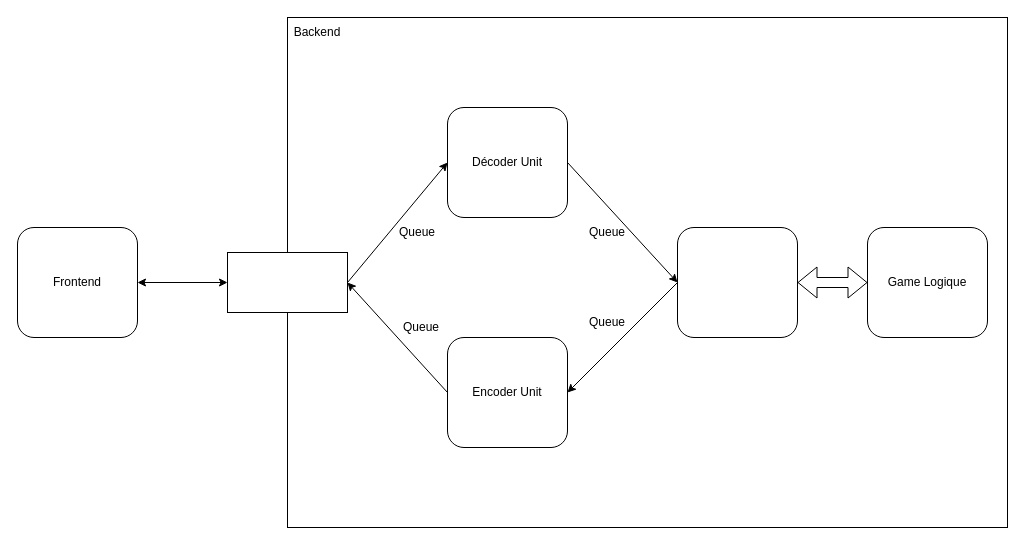
The diagram is 1025 pixels wide and 545 high, and some of its shapes have lost their labels. The shapes that lost their labels are listed below. From the top down, each one's centre as x and y in pixels, then its label:
point (287, 282): WebSocket
point (737, 282): Processing unit
